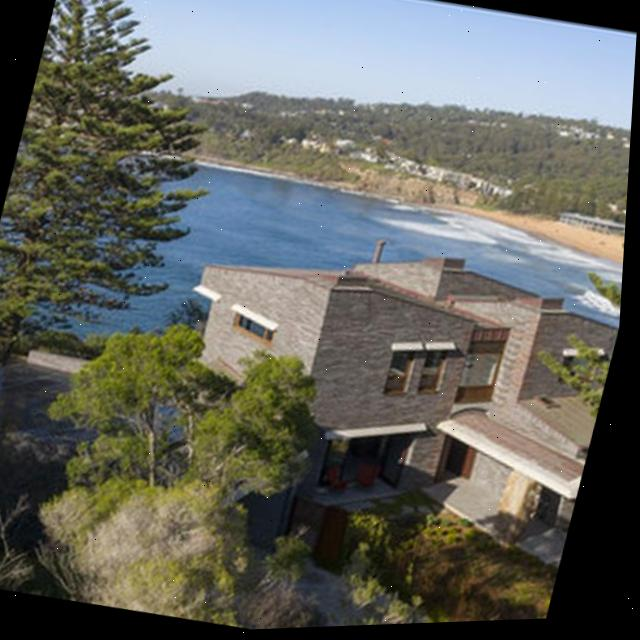building: (131, 198, 627, 600), (551, 194, 627, 252)
